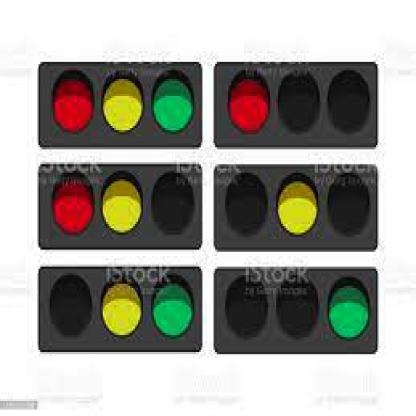traffic-light: (38, 64, 198, 147), (218, 271, 378, 352), (42, 166, 196, 248), (222, 168, 367, 250), (40, 273, 194, 350), (220, 68, 374, 145)
